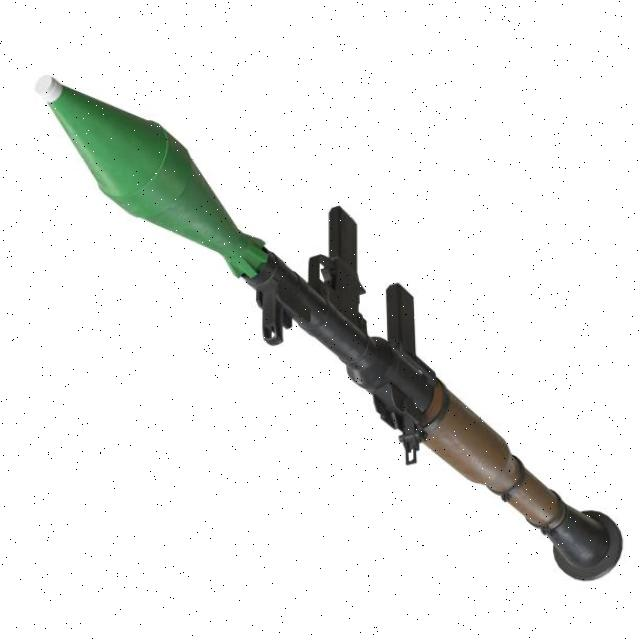bazooka: (24, 70, 628, 591)
